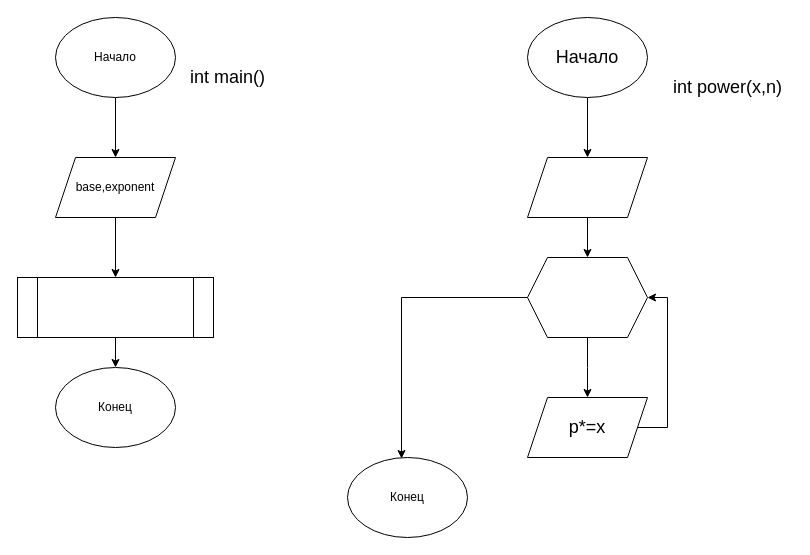
Some shapes in this 810 by 555 pixel diagram are drawn without their labels. Here are the shapes that lost their labels. From the top down, the centre of each, then its label:
At [587,187]: "p=x".
At [115,307]: "power(base,exponent)".
At [587,297]: "i=1;i<n;i++".
